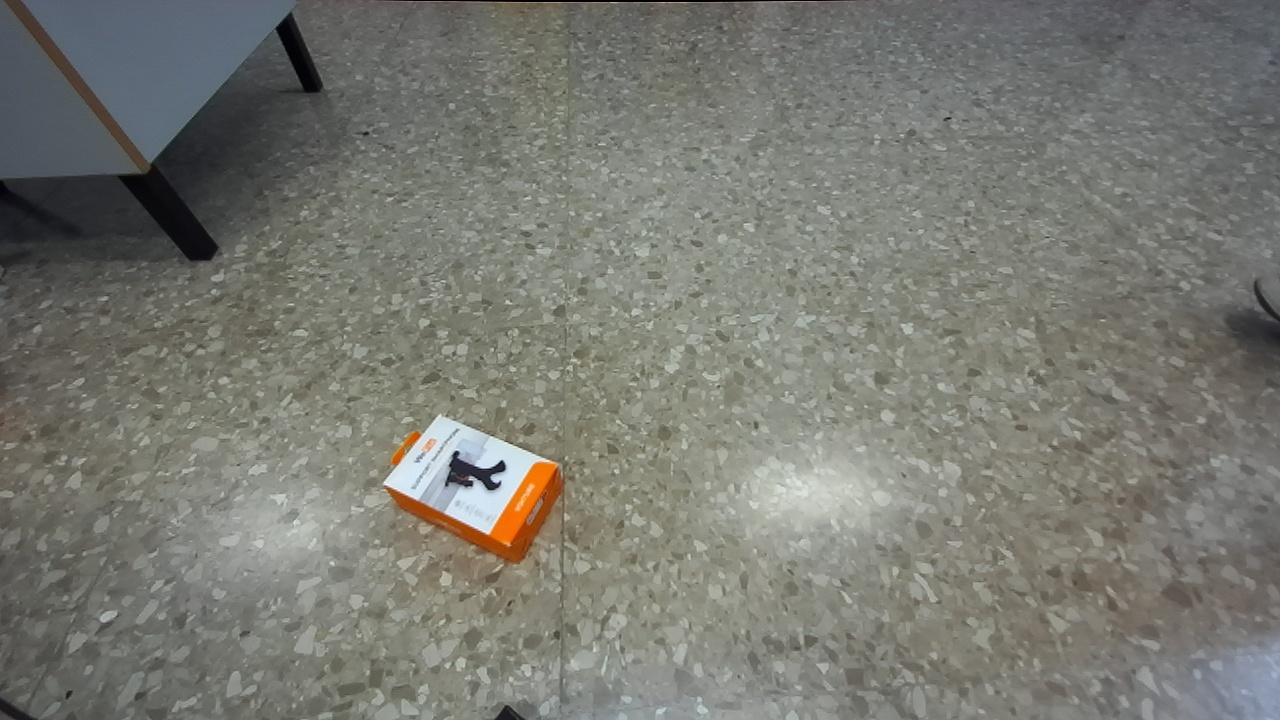caja_pcb: (383, 416, 562, 561)
